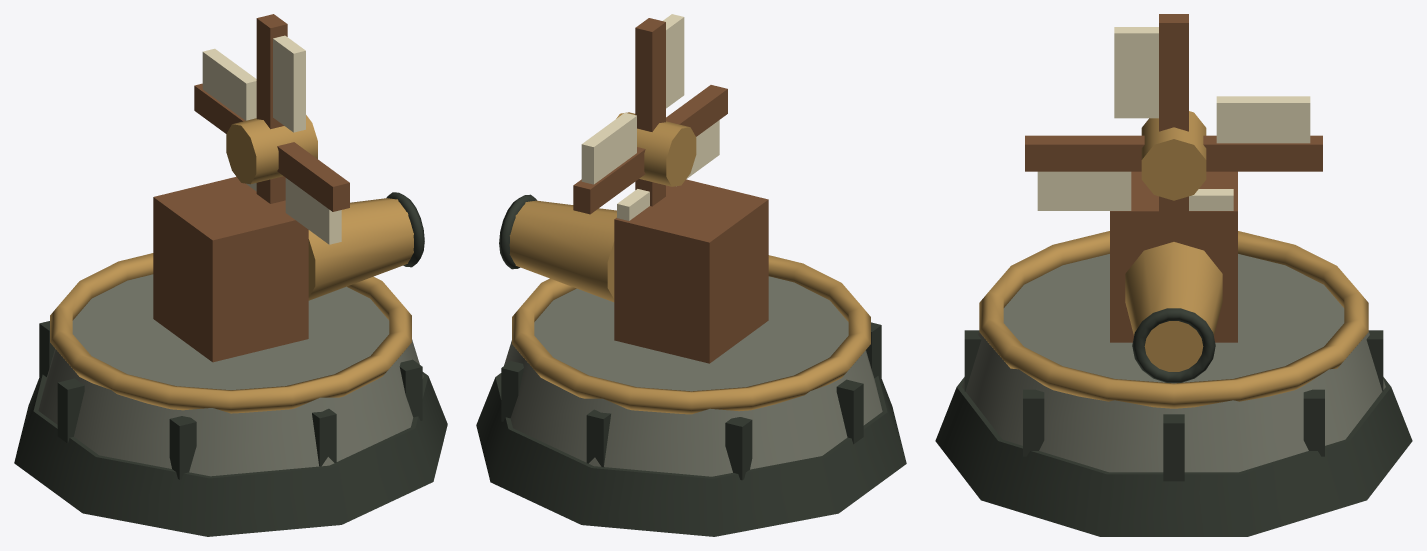
The model's file is tower_wind_windCannon.glb.
3 views of the same model, side by side, from view 1: azimuth 30°, elevation 25°; view 2: azimuth 150°, elevation 25°; view 3: azimuth 270°, elevation 25° (orthographic). The views are drawn at different scales.
Visible parts, largest first — view 1: stone_1, foot_0, mill_11, rim_2, air_nozzle_21, hub_12, sail_16, spar_17, sail_14, spar_15, sail_18, mortar_6 (+7 smaller); view 2: stone_1, foot_0, mill_11, rim_2, air_nozzle_21, spar_15, hub_12, sail_14, spar_13, spar_17, sail_16, mortar_8 (+7 smaller); view 3: stone_1, foot_0, rim_2, mill_11, air_nozzle_21, hub_12, sail_14, spar_17, sail_16, sail_18, spar_13, spar_15 (+8 smaller).
Boxes of the visible parts, box(x1,y1,x2,y2) form: stone_1: box(38, 274, 423, 476); foot_0: box(14, 372, 447, 536); mill_11: box(153, 176, 308, 362); rim_2: box(50, 253, 411, 413); air_nozzle_21: box(308, 198, 413, 300); hub_12: box(226, 115, 317, 184); sail_16: box(273, 35, 305, 132); spar_17: box(277, 142, 349, 211); sail_14: box(202, 48, 256, 120); spar_15: box(256, 14, 287, 129); sail_18: box(285, 178, 341, 244); mortar_6: box(169, 416, 196, 479); stone_1: box(500, 276, 882, 476); foot_0: box(476, 373, 906, 536); mill_11: box(614, 179, 768, 363); rim_2: box(512, 255, 870, 414); air_nozzle_21: box(509, 200, 616, 302); spar_15: box(635, 18, 665, 131); hub_12: box(616, 112, 696, 186); sail_14: box(581, 112, 636, 184); spar_13: box(573, 147, 645, 214); spar_17: box(666, 85, 727, 136); sail_16: box(663, 14, 684, 108); mortar_8: box(725, 417, 752, 480); stone_1: box(962, 254, 1385, 472); foot_0: box(935, 377, 1412, 536); rim_2: box(979, 231, 1368, 408); mill_11: box(1110, 171, 1237, 342); air_nozzle_21: box(1125, 242, 1222, 371); hub_12: box(1141, 111, 1206, 200); sail_14: box(1216, 96, 1310, 143); spar_17: box(1025, 135, 1144, 171); sail_16: box(1114, 27, 1158, 118); sail_18: box(1037, 171, 1131, 210); spar_13: box(1203, 135, 1322, 171); spar_15: box(1159, 14, 1188, 131).
Size of the model in its own units: 0.5326 by 0.575 by 0.56.
